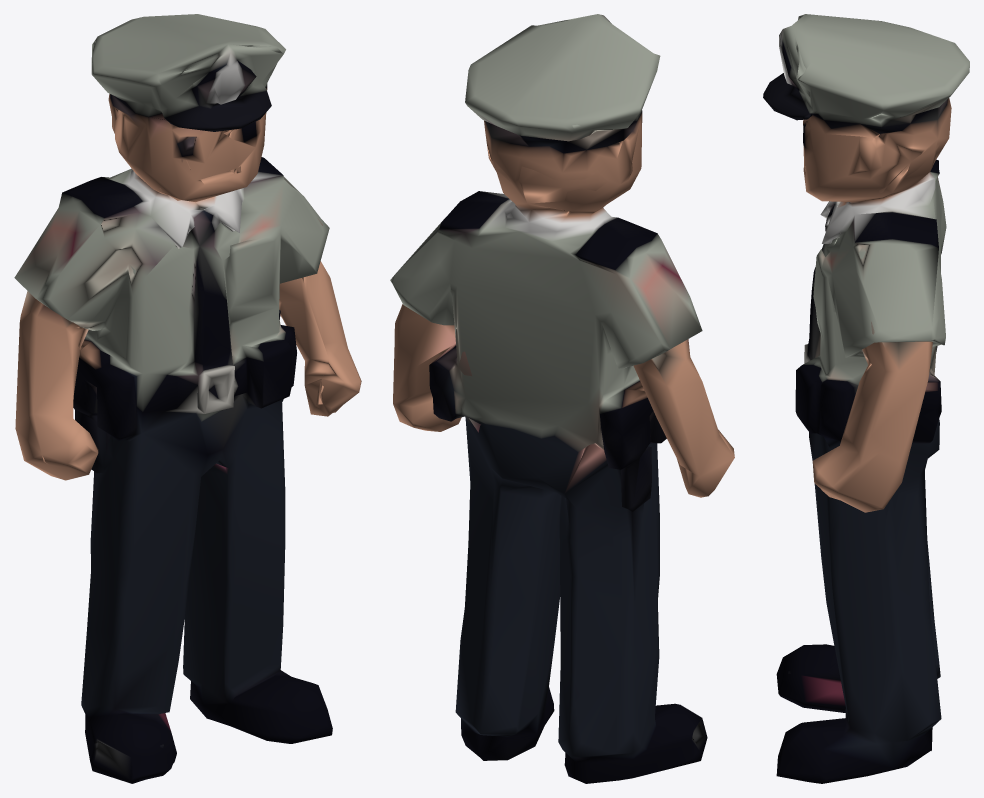
Rendered from gen3d-cop-lod0.glb.
The picture shows the model from 3 angles, left to right: view 1: azimuth 30°, elevation 25°; view 2: azimuth 150°, elevation 25°; view 3: azimuth 270°, elevation 25°; orthographic projection.
Parts seen in each view (by area): view 1: part_0; view 2: part_0; view 3: part_0.
Boxes of the visible parts, x1,y1,x2,y2 form: part_0: (14,14,361,783); part_0: (390,14,734,783); part_0: (763,14,969,783).
Bounding box in the file's own units: 0.4702 × 1 × 0.2659.
